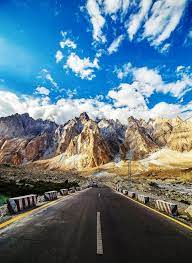straightRoad: (37, 180, 164, 263)
